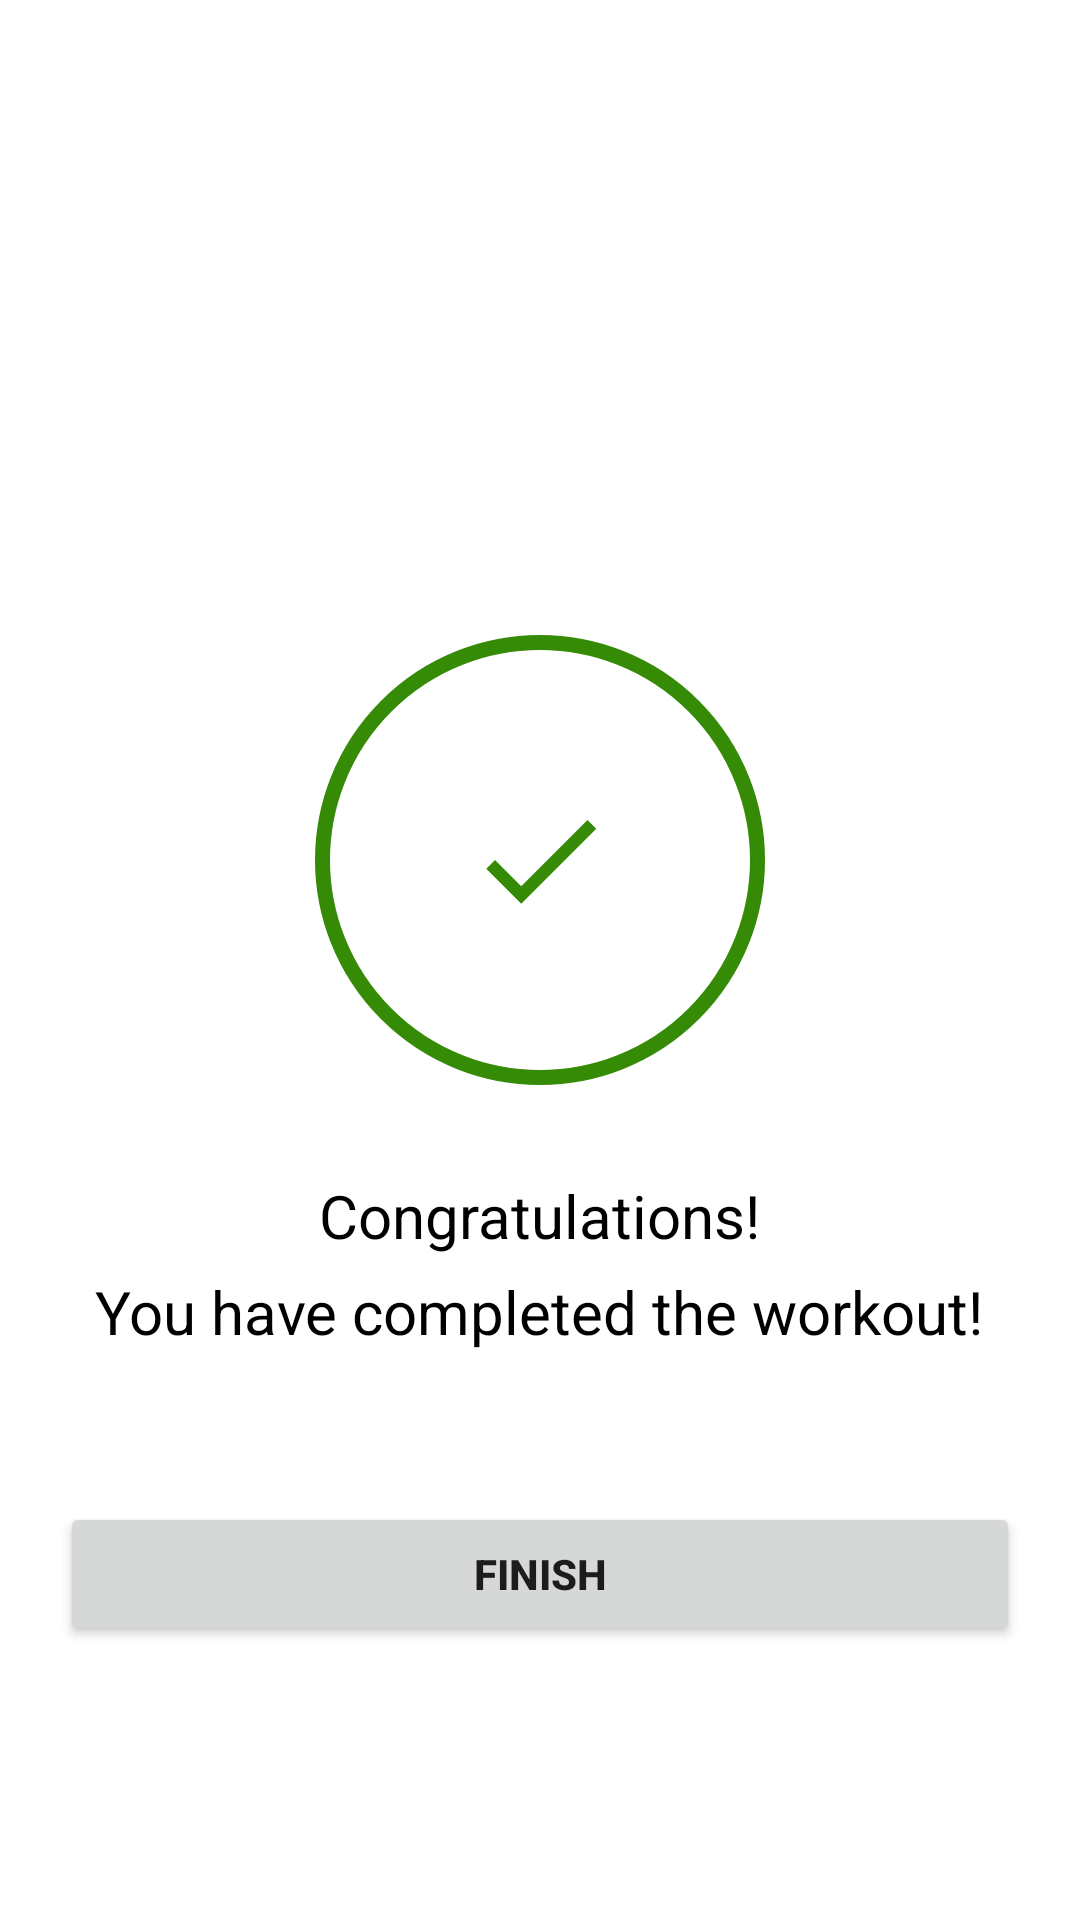

Icon bounding boxes for this 1080px×1920px phone screenshot, format [x1=x1, y1=y1, x2=x2, y2=y2]:
image Done: [x1=486, y1=820, x2=596, y2=904]
